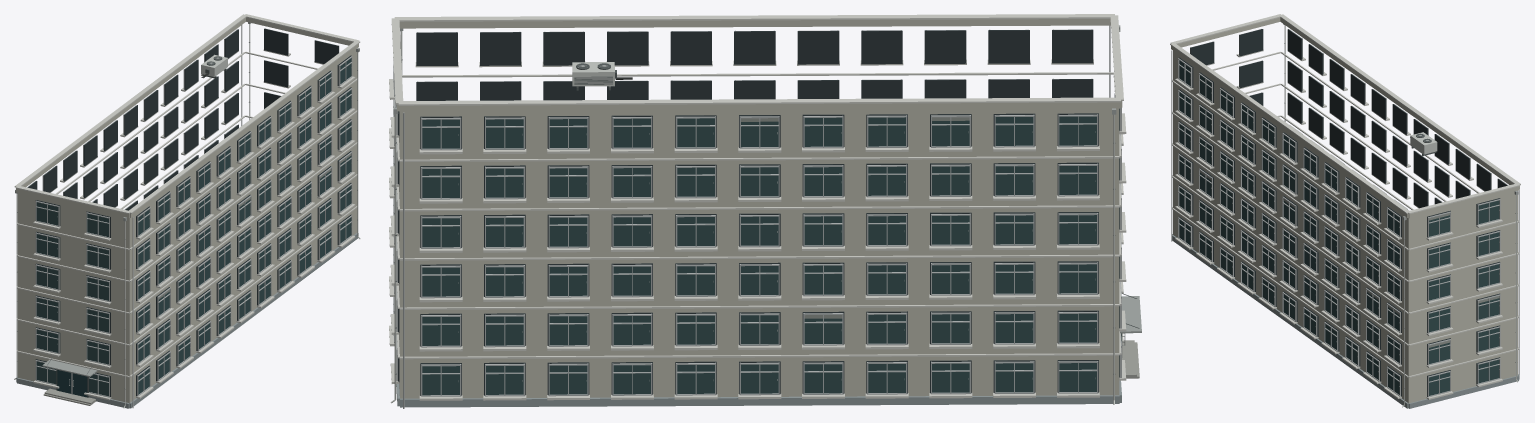
File: osm_way_1173057029.glb
The picture shows the model from 3 angles, left to right: view 1: azimuth 30°, elevation 25°; view 2: azimuth 150°, elevation 25°; view 3: azimuth 270°, elevation 25°; orthographic projection. The views are drawn at different scales.
Parts seen in each view (by area): view 1: Windows and facade details | osm_way_1173057029, Architecture | osm_way_1173057029, Roof services | osm_way_1173057029, EXTERIOR::osm_way_1173057029::rainwater and roof service det, EXTERIOR::osm_way_1173057029::inferred entry doors canopy an; view 2: Windows and facade details | osm_way_1173057029, Architecture | osm_way_1173057029, Roof services | osm_way_1173057029, EXTERIOR::osm_way_1173057029::rainwater and roof service det, EXTERIOR::osm_way_1173057029::inferred entry doors canopy an; view 3: Windows and facade details | osm_way_1173057029, Architecture | osm_way_1173057029, Roof services | osm_way_1173057029, EXTERIOR::osm_way_1173057029::rainwater and roof service det, EXTERIOR::osm_way_1173057029::native pane seals and hardware.
Boxes of the visible parts, x1,y1,x2,y2 form: Windows and facade details | osm_way_1173057029: [27, 25, 355, 408]; Architecture | osm_way_1173057029: [16, 17, 358, 408]; Roof services | osm_way_1173057029: [14, 14, 360, 213]; EXTERIOR::osm_way_1173057029::rainwater and roof service det: [14, 22, 360, 408]; EXTERIOR::osm_way_1173057029::inferred entry doors canopy an: [42, 355, 97, 405]; Windows and facade details | osm_way_1173057029: [389, 25, 1126, 408]; Architecture | osm_way_1173057029: [396, 19, 1122, 407]; Roof services | osm_way_1173057029: [391, 14, 1123, 105]; EXTERIOR::osm_way_1173057029::rainwater and roof service det: [390, 25, 1120, 404]; EXTERIOR::osm_way_1173057029::inferred entry doors canopy an: [1120, 293, 1141, 378]; Windows and facade details | osm_way_1173057029: [1171, 29, 1519, 399]; Architecture | osm_way_1173057029: [1171, 17, 1519, 408]; Roof services | osm_way_1173057029: [1170, 14, 1520, 214]; EXTERIOR::osm_way_1173057029::rainwater and roof service det: [1283, 24, 1518, 407]; EXTERIOR::osm_way_1173057029::native pane seals and hardware: [1190, 77, 1499, 386].
Size of the model in its own units: 42.96 by 20.58 by 31.97.
